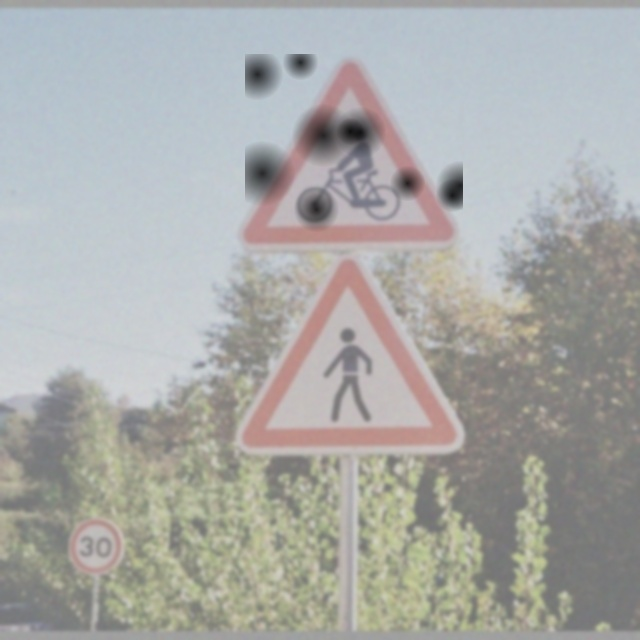Cycle_Crossing: (245, 54, 463, 250)
